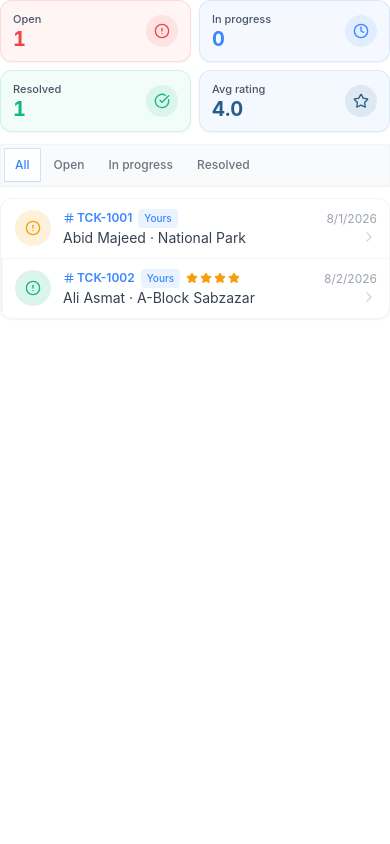
Test: PortalComplaints › opens the detail sheet when a row is tapped
Click the text "TCK-1001" at (98, 218), box [63,210,132,226]
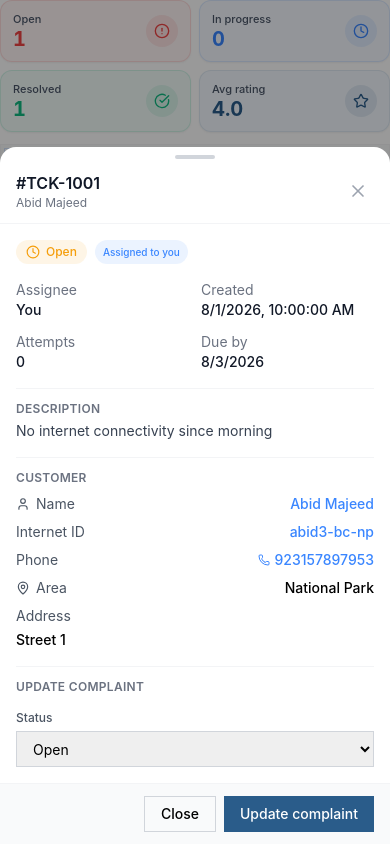
Expected: the text "No internet connectivity since morning" is shown, [16,422,272,439]
Expected: the link "923157897953" is shown, [258,550,374,570]
